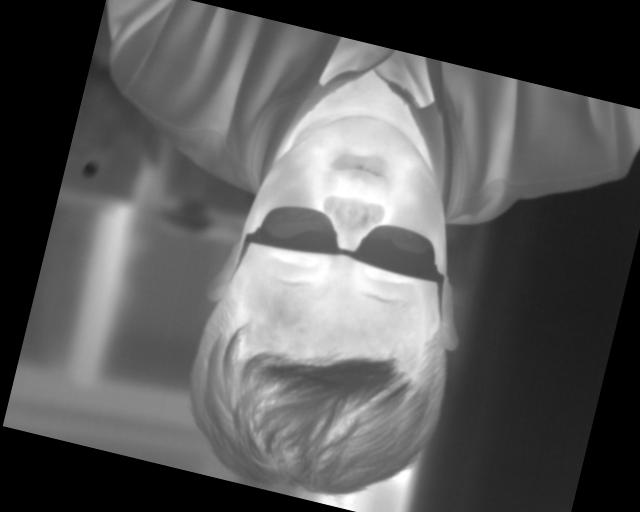face: (124, 268, 220, 390), (343, 323, 410, 415)
